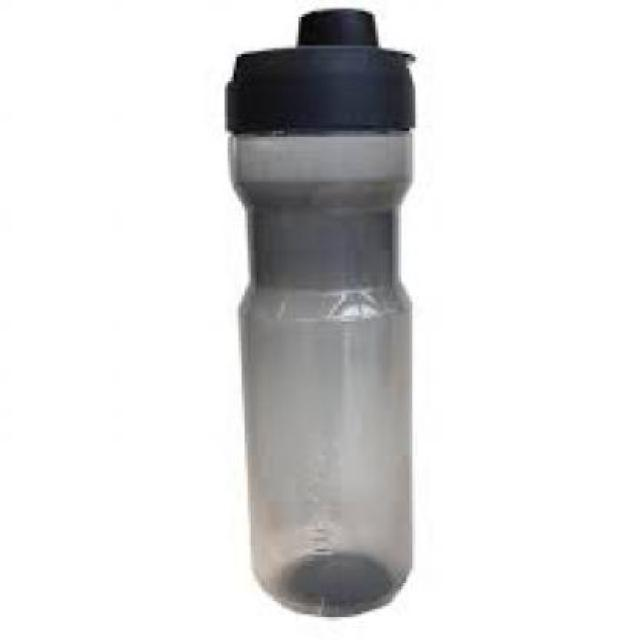Drinking: (195, 6, 437, 603)
